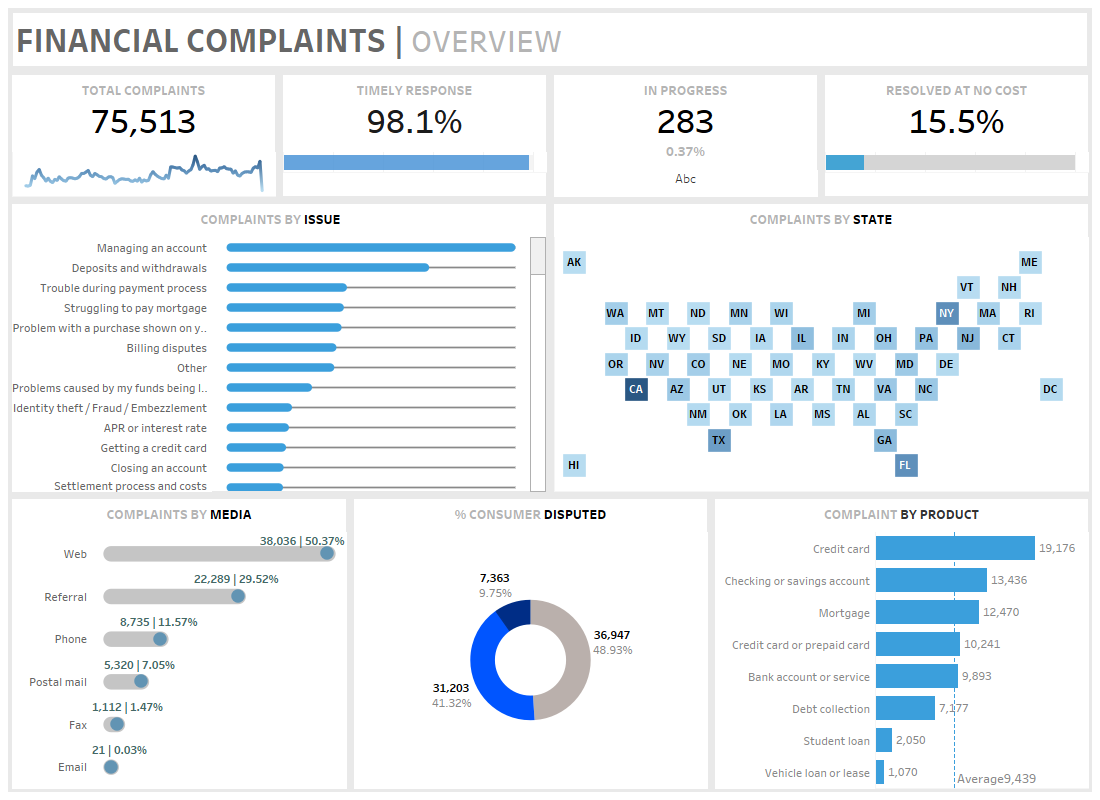

The dashboard page shown, as its layout file describes it:
{"tool":"tableau","page":{"name":"FINANCIAL COMPLAINTS OVERVIEW","canvas":[1100,800],"ordinal":0},"visuals":[{"type":"text","box":[8,8,1084,63]},{"type":"worksheet","title":"Total Complaints","mark":"Automatic","rows":["Financial Consumer Complaints.csv_25DB36FEF0B045FABEF8E29ED5"],"cols":["Date Sumbited"],"box":[8,71,271,129]},{"type":"worksheet","title":"TIMELY RESPONSE","mark":"Automatic","box":[279,71,271,129]},{"type":"worksheet","title":"IN PROGRESS COMPLAINTS","mark":"Automatic","box":[550,71,271,129]},{"type":"worksheet","title":"RESOLVED AT NO COST","mark":"Bar","box":[821,71,271,129]},{"type":"worksheet","title":"COMPLAINTS BY ISSUE","mark":"Automatic","rows":["Issue"],"cols":["Calculation_434597372797337628"],"box":[8,200,542,295]},{"type":"worksheet","title":"complaint by state","mark":"Automatic","rows":["Row"],"cols":["Column"],"box":[550,200,542,295]},{"type":"worksheet","title":"COMPLAINTS BY MEDIA","mark":"Automatic","rows":["Submitted via"],"cols":["Financial Consumer Complaints.csv_25DB36FEF0B045FABEF8E29ED5"],"box":[8,495,342,297]},{"type":"worksheet","title":"% CONSUMER DISPUTED","mark":"Pie","rows":["Calculation_434597372770013196","Calculation_434597372770066446"],"box":[350,495,361,297]},{"type":"worksheet","title":"COMPLAINT BY PRODUCT","mark":"Automatic","rows":["Product"],"cols":["Financial Consumer Complaints.csv_25DB36FEF0B045FABEF8E29ED5"],"box":[711,495,381,297]}]}

Visuals, with their boxes in screenshot pixels (x1, y1, x2, y2), scaled from the page's 1100x800 canvas onto the 1100x800 screenshot:
text: box(8, 8, 1092, 71)
"Total Complaints" worksheet: box(8, 71, 279, 200)
"TIMELY RESPONSE" worksheet: box(279, 71, 550, 200)
"IN PROGRESS COMPLAINTS" worksheet: box(550, 71, 821, 200)
"RESOLVED AT NO COST" worksheet (Bar marks): box(821, 71, 1092, 200)
"COMPLAINTS BY ISSUE" worksheet: box(8, 200, 550, 495)
"complaint by state" worksheet: box(550, 200, 1092, 495)
"COMPLAINTS BY MEDIA" worksheet: box(8, 495, 350, 792)
"% CONSUMER DISPUTED" worksheet (Pie marks): box(350, 495, 711, 792)
"COMPLAINT BY PRODUCT" worksheet: box(711, 495, 1092, 792)
